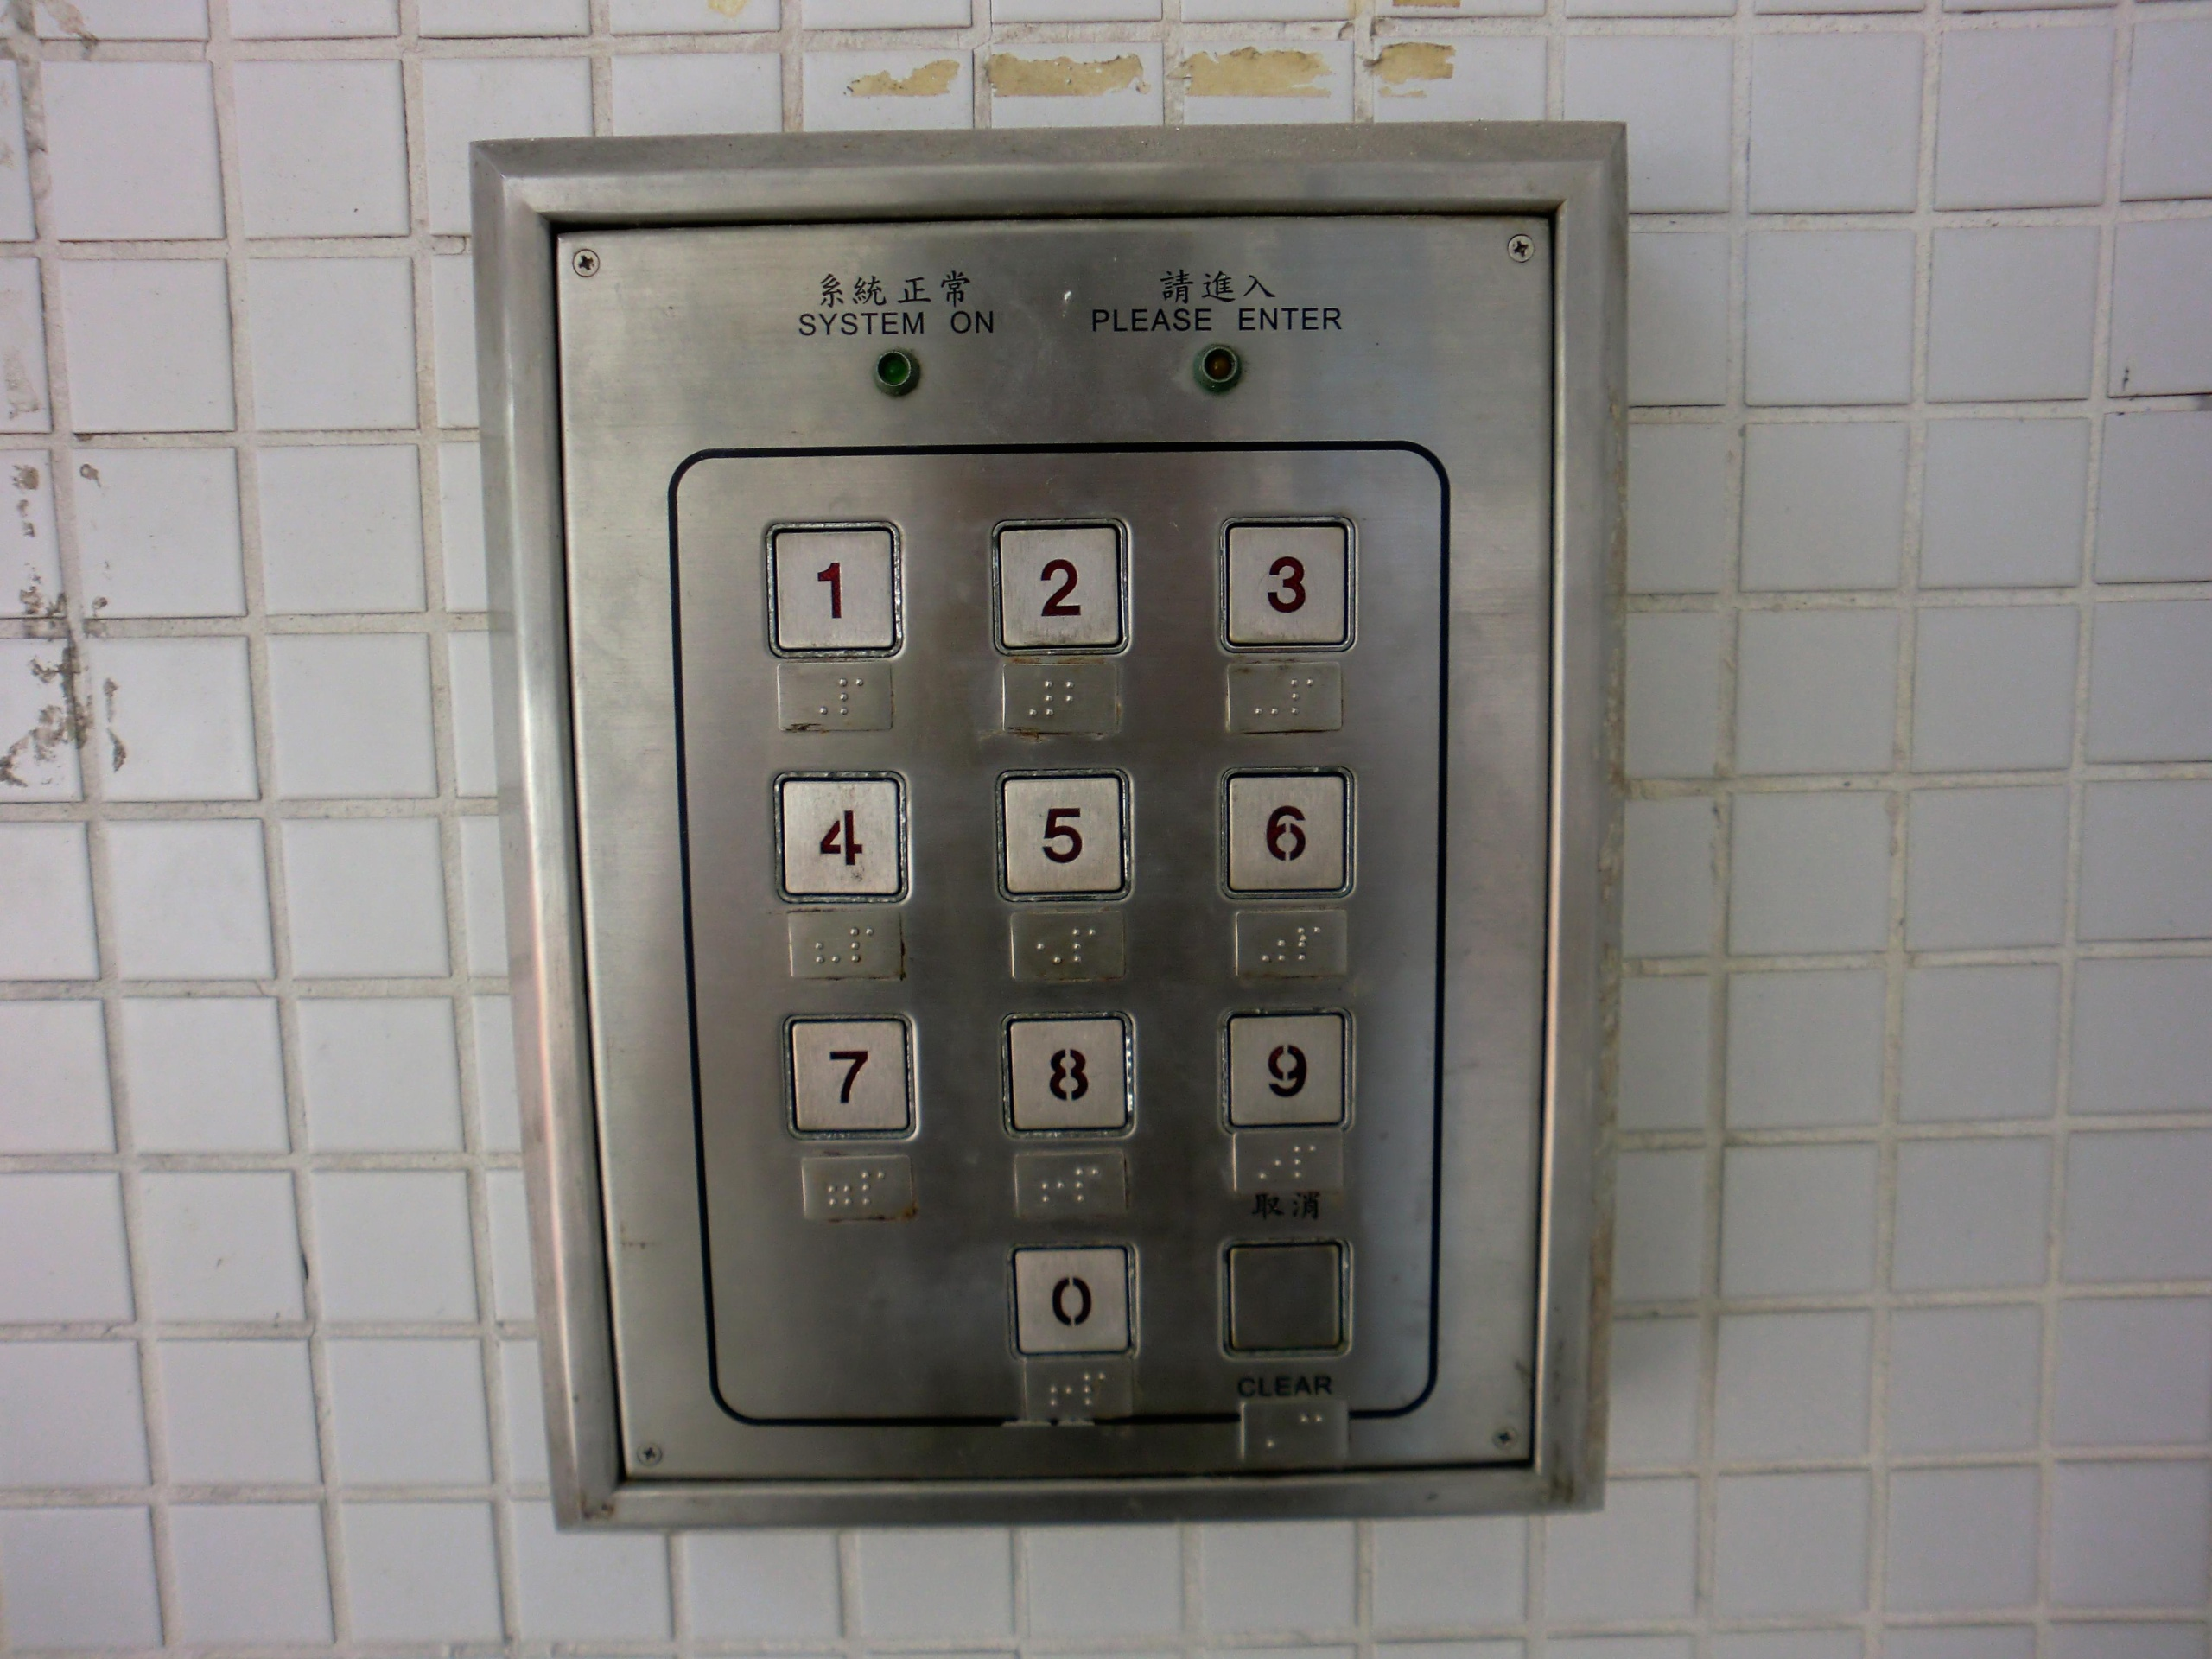0: (1005, 1237, 1141, 1366)
1: (761, 516, 909, 666)
2: (986, 511, 1134, 660)
3: (1212, 509, 1360, 659)
4: (766, 760, 914, 910)
5: (991, 760, 1137, 910)
6: (1214, 758, 1362, 908)
7: (777, 1006, 923, 1150)
8: (995, 1000, 1139, 1145)
9: (1216, 999, 1355, 1140)
empty: (1217, 1229, 1353, 1358)
